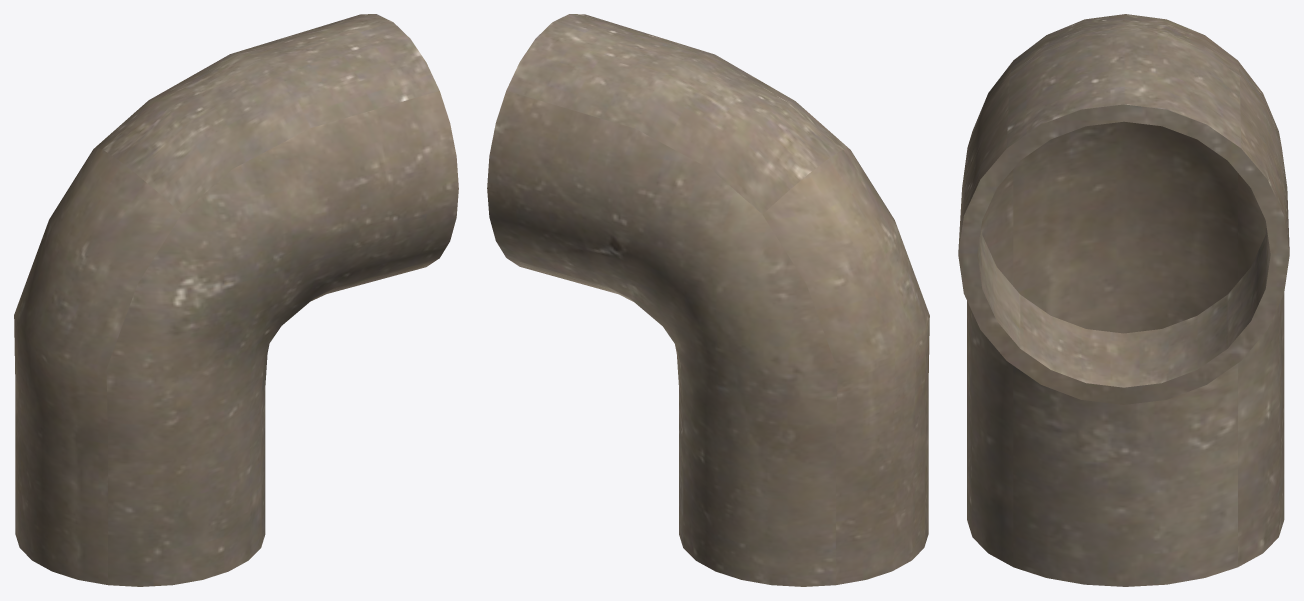
The model's file is Pipe01_03.fbx.
3 views of the same model, side by side, from view 1: azimuth 30°, elevation 25°; view 2: azimuth 150°, elevation 25°; view 3: azimuth 270°, elevation 25° (orthographic). The views are drawn at different scales.
Visible parts, largest first — view 1: Cylinder (41); view 2: Cylinder (41); view 3: Cylinder (41).
Boxes of the visible parts, <box> form: Cylinder (41): <box>14,14,458,586</box>; Cylinder (41): <box>487,14,929,586</box>; Cylinder (41): <box>958,14,1289,586</box>.
Bounding box in the file's own units: 42.17 × 50.2 × 26.38.
